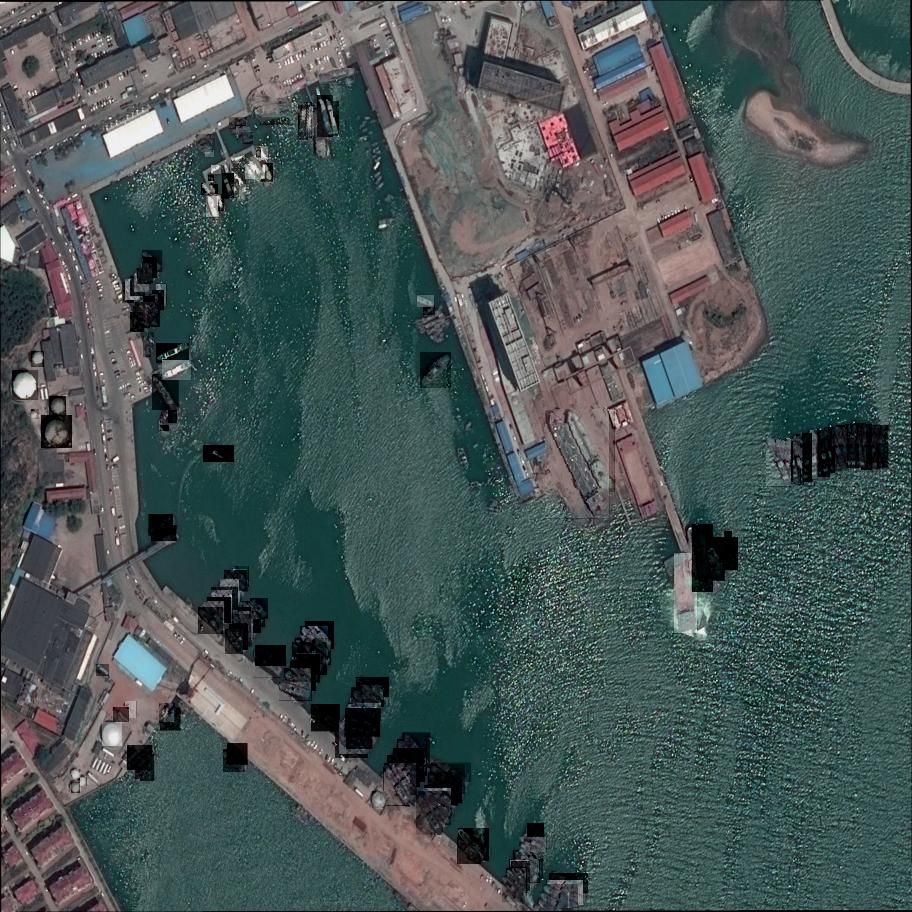large-vehicle: (113, 708, 130, 722), (125, 702, 138, 719), (96, 664, 109, 677)
ship: (545, 408, 612, 518), (567, 411, 618, 492), (675, 553, 699, 633), (692, 524, 714, 592), (766, 438, 792, 487), (291, 643, 329, 676), (419, 352, 453, 388), (387, 755, 423, 789), (384, 762, 419, 796), (418, 791, 452, 825), (430, 764, 467, 795), (397, 740, 428, 777), (344, 708, 382, 738), (457, 828, 490, 862), (339, 720, 372, 754), (392, 748, 425, 782), (428, 772, 463, 804), (416, 795, 444, 834), (384, 767, 412, 806), (401, 733, 431, 769), (294, 638, 333, 665), (346, 712, 374, 749), (826, 428, 850, 471), (709, 537, 740, 570), (334, 730, 369, 759), (152, 375, 180, 411), (542, 884, 578, 912), (299, 626, 329, 658), (351, 688, 382, 718), (546, 881, 584, 905), (284, 668, 314, 698), (513, 850, 544, 879), (305, 621, 336, 650), (310, 704, 341, 732), (423, 788, 454, 816), (251, 651, 283, 678), (292, 654, 321, 683), (865, 427, 884, 471), (548, 874, 589, 894), (290, 662, 318, 691), (430, 763, 472, 782), (156, 344, 190, 367), (509, 859, 541, 883), (850, 423, 867, 468), (785, 439, 802, 484), (197, 607, 224, 635), (815, 431, 831, 478), (706, 544, 726, 581), (836, 425, 853, 468), (873, 425, 890, 468), (502, 876, 528, 904), (423, 786, 459, 806), (254, 646, 288, 667), (316, 96, 333, 138), (457, 837, 483, 864), (126, 746, 154, 771), (211, 587, 241, 610), (207, 597, 233, 623), (134, 302, 161, 327), (238, 607, 262, 635), (357, 685, 386, 708), (278, 682, 313, 701), (355, 678, 390, 697), (314, 105, 327, 156), (252, 101, 291, 118), (232, 614, 252, 647), (162, 360, 193, 381), (319, 69, 357, 86), (511, 861, 531, 893), (506, 868, 528, 897), (347, 704, 382, 722), (242, 602, 267, 627), (520, 846, 545, 871), (211, 591, 234, 618), (845, 425, 859, 469), (260, 107, 292, 126), (224, 570, 250, 593), (203, 602, 226, 628), (323, 101, 340, 136), (148, 515, 175, 537), (160, 707, 183, 732), (220, 579, 241, 606), (202, 445, 235, 462), (223, 749, 247, 772), (521, 838, 544, 862), (229, 624, 250, 650), (237, 611, 255, 641), (781, 442, 794, 483), (227, 743, 250, 766), (134, 750, 152, 779), (225, 629, 245, 655), (862, 424, 873, 471), (142, 249, 164, 272), (825, 428, 836, 473), (225, 575, 243, 602), (803, 434, 813, 482), (519, 837, 548, 853), (246, 158, 266, 181), (150, 525, 178, 541), (133, 306, 152, 329), (526, 824, 545, 847), (140, 754, 156, 781), (250, 599, 269, 620), (232, 168, 250, 190), (233, 567, 250, 588), (125, 279, 142, 300), (298, 105, 308, 140), (130, 277, 147, 297), (222, 173, 235, 199), (134, 272, 150, 293), (810, 431, 817, 479), (143, 296, 158, 318), (206, 196, 220, 219), (160, 704, 176, 724), (130, 312, 146, 332), (144, 257, 158, 279), (797, 435, 803, 485), (137, 268, 152, 285), (123, 282, 135, 303), (152, 291, 165, 310), (229, 117, 248, 130), (157, 285, 168, 307), (232, 122, 249, 136), (261, 164, 274, 182), (417, 295, 436, 307), (161, 410, 174, 427), (143, 263, 154, 283), (198, 139, 216, 151), (306, 103, 312, 138), (230, 179, 241, 198), (149, 294, 160, 313), (236, 126, 249, 141), (196, 134, 212, 146), (257, 146, 269, 161), (245, 165, 257, 180), (144, 337, 152, 357), (160, 416, 170, 432), (423, 305, 436, 317), (159, 419, 167, 438), (238, 132, 253, 142), (725, 531, 732, 551), (202, 184, 213, 196), (168, 410, 177, 424), (201, 144, 215, 153), (205, 148, 216, 159), (211, 166, 223, 176), (218, 195, 225, 211), (148, 332, 154, 350), (210, 184, 220, 194), (243, 138, 254, 145), (256, 147, 261, 160), (224, 164, 230, 174), (207, 175, 215, 182), (232, 157, 243, 162)
storage-tank: (41, 415, 72, 449), (12, 370, 40, 401), (102, 723, 122, 746), (49, 396, 67, 416), (372, 791, 387, 809), (31, 352, 45, 368), (71, 770, 81, 781), (71, 782, 80, 793), (32, 410, 40, 419), (80, 778, 86, 786)
